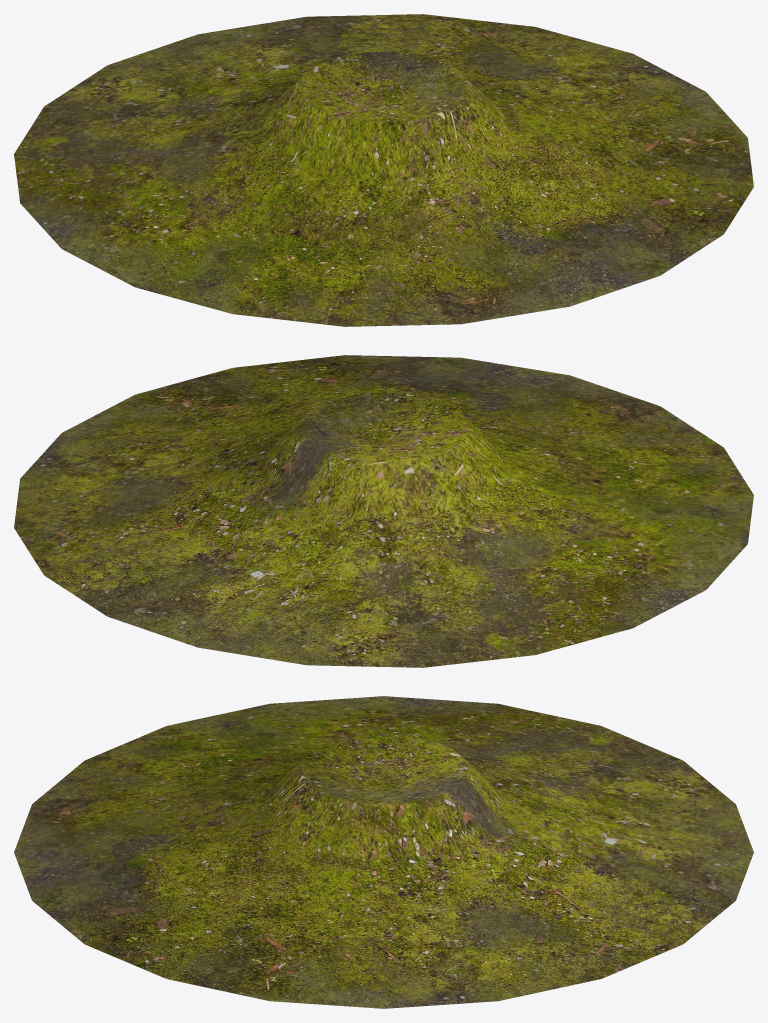
The model's file is M_treeBase.fbx.
The picture shows the model from 3 angles, top to bottom: view 1: azimuth 30°, elevation 25°; view 2: azimuth 150°, elevation 25°; view 3: azimuth 270°, elevation 25°; orthographic projection.
Parts seen in each view (by area): view 1: tree_base; view 2: tree_base; view 3: tree_base.
Part boxes in pixels (bbox=[...]): tree_base: bbox=[14, 14, 753, 326]; tree_base: bbox=[14, 355, 753, 667]; tree_base: bbox=[14, 696, 753, 1008].
Size of the model in its own units: 6.06 by 0.7485 by 6.06.
Materials: 1 (1 with a texture image).
